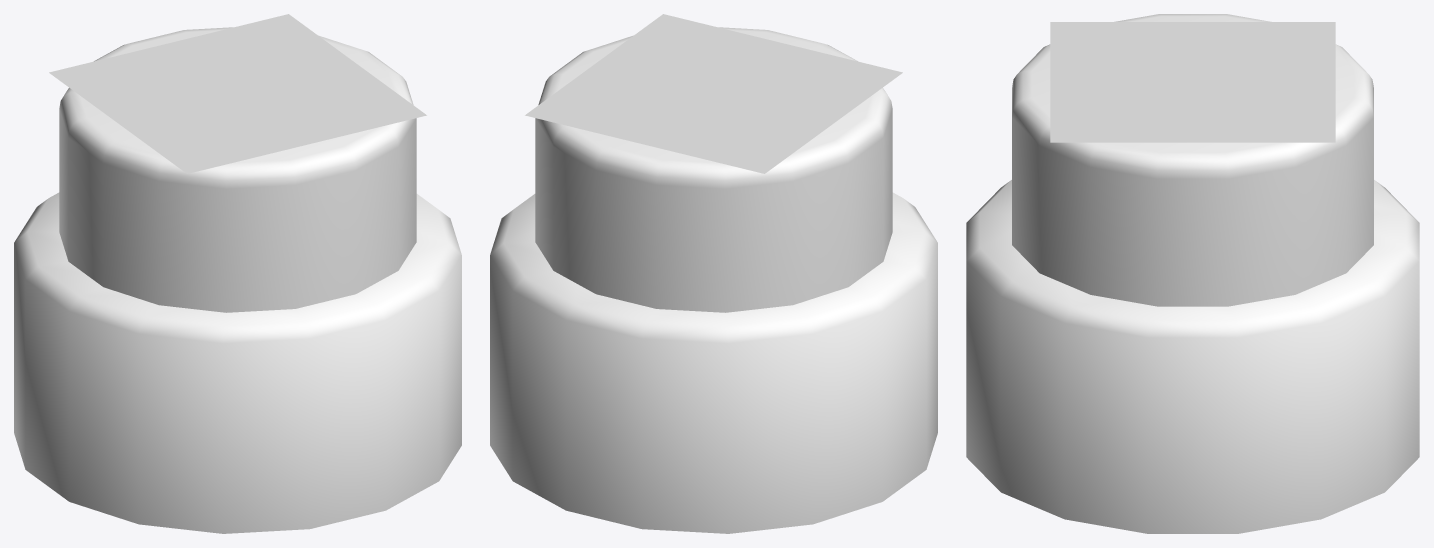
The model's file is hex_AreaChangeDirection.fbx.
The picture shows the model from 3 angles, left to right: view 1: azimuth 30°, elevation 25°; view 2: azimuth 150°, elevation 25°; view 3: azimuth 270°, elevation 25°; orthographic projection. The views are drawn at different scales.
Parts seen in each view (by area): view 1: hex_AreaChangeDirection_Base, hex_AreaChangeDirection_Button, icon; view 2: hex_AreaChangeDirection_Base, hex_AreaChangeDirection_Button, icon; view 3: hex_AreaChangeDirection_Base, hex_AreaChangeDirection_Button, icon.
Part boxes in pixels (box(x1,y1,x2,y2)): hex_AreaChangeDirection_Base: box(14, 192, 461, 533); hex_AreaChangeDirection_Button: box(59, 27, 416, 312); icon: box(49, 14, 426, 173); hex_AreaChangeDirection_Base: box(490, 192, 937, 533); hex_AreaChangeDirection_Button: box(535, 27, 892, 312); icon: box(525, 14, 902, 173); hex_AreaChangeDirection_Base: box(966, 180, 1419, 533); hex_AreaChangeDirection_Button: box(1012, 14, 1373, 306); icon: box(1050, 22, 1335, 142).
Size of the model in its own units: 68.85 by 59.6 by 68.85.
1 material, 1 textured.
